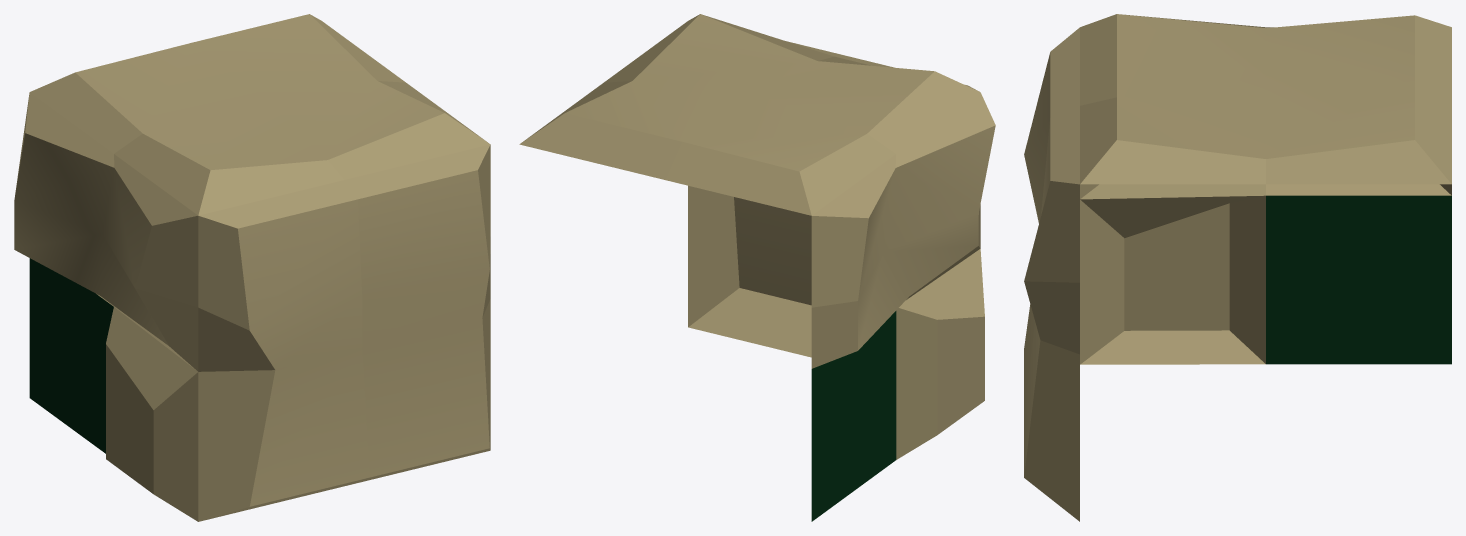
The model's file is Modular_B.fbx.
3 views of the same model, side by side, from view 1: azimuth 30°, elevation 25°; view 2: azimuth 150°, elevation 25°; view 3: azimuth 270°, elevation 25° (orthographic). The views are drawn at different scales.
Parts seen in each view (by area): view 1: Geo_B; view 2: Geo_B; view 3: Geo_B.
Boxes of the visible parts, box(x1,y1,x2,y2) form: Geo_B: box(14, 14, 490, 521); Geo_B: box(519, 14, 995, 521); Geo_B: box(1024, 14, 1451, 521).
Size of the model in its own units: 4.42 by 4.35 by 4.6.
